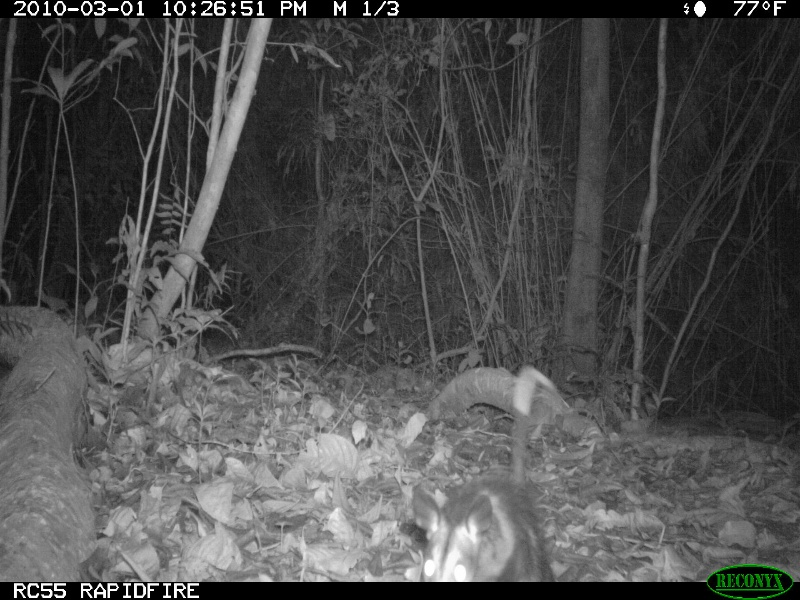opossum: (406, 370, 564, 582)
